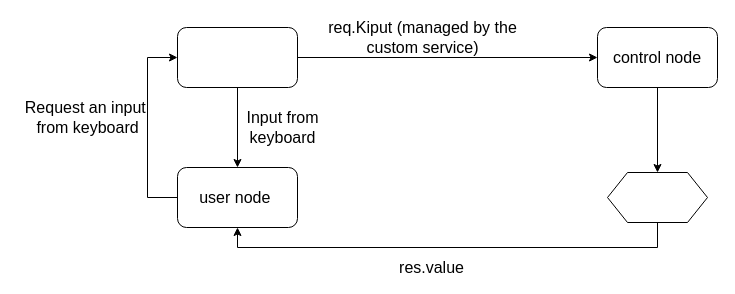
Some shapes in this 735 by 294 pixel diagram are drawn without their labels. Each missing label, with the box of its shape:
incr/decr velocity: (606, 172, 708, 222)
USER: (176, 26, 298, 88)
